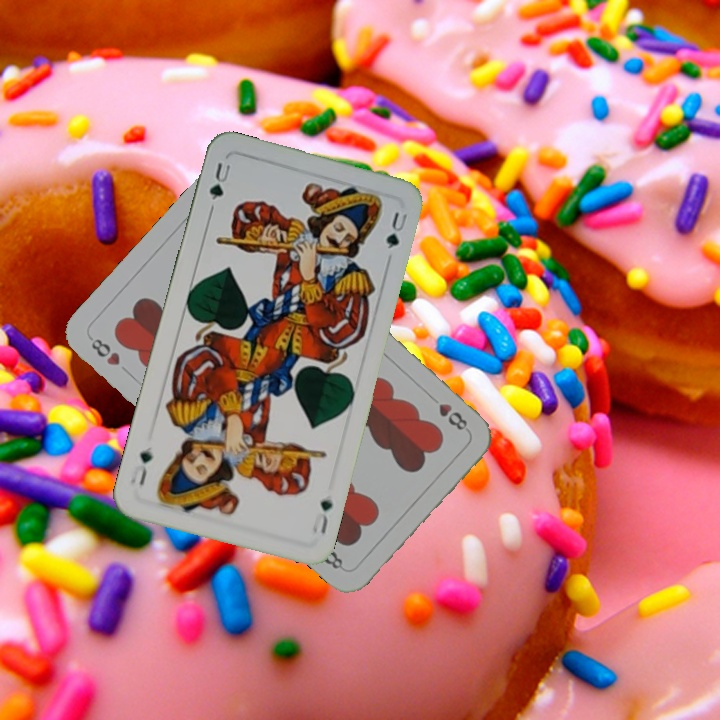GU: (205, 158, 233, 203), (308, 495, 335, 537)
H8: (424, 390, 470, 433), (85, 332, 123, 369)
